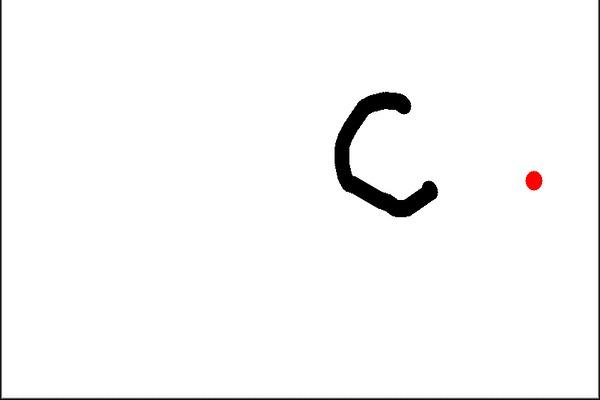C: (326, 84, 443, 218)
